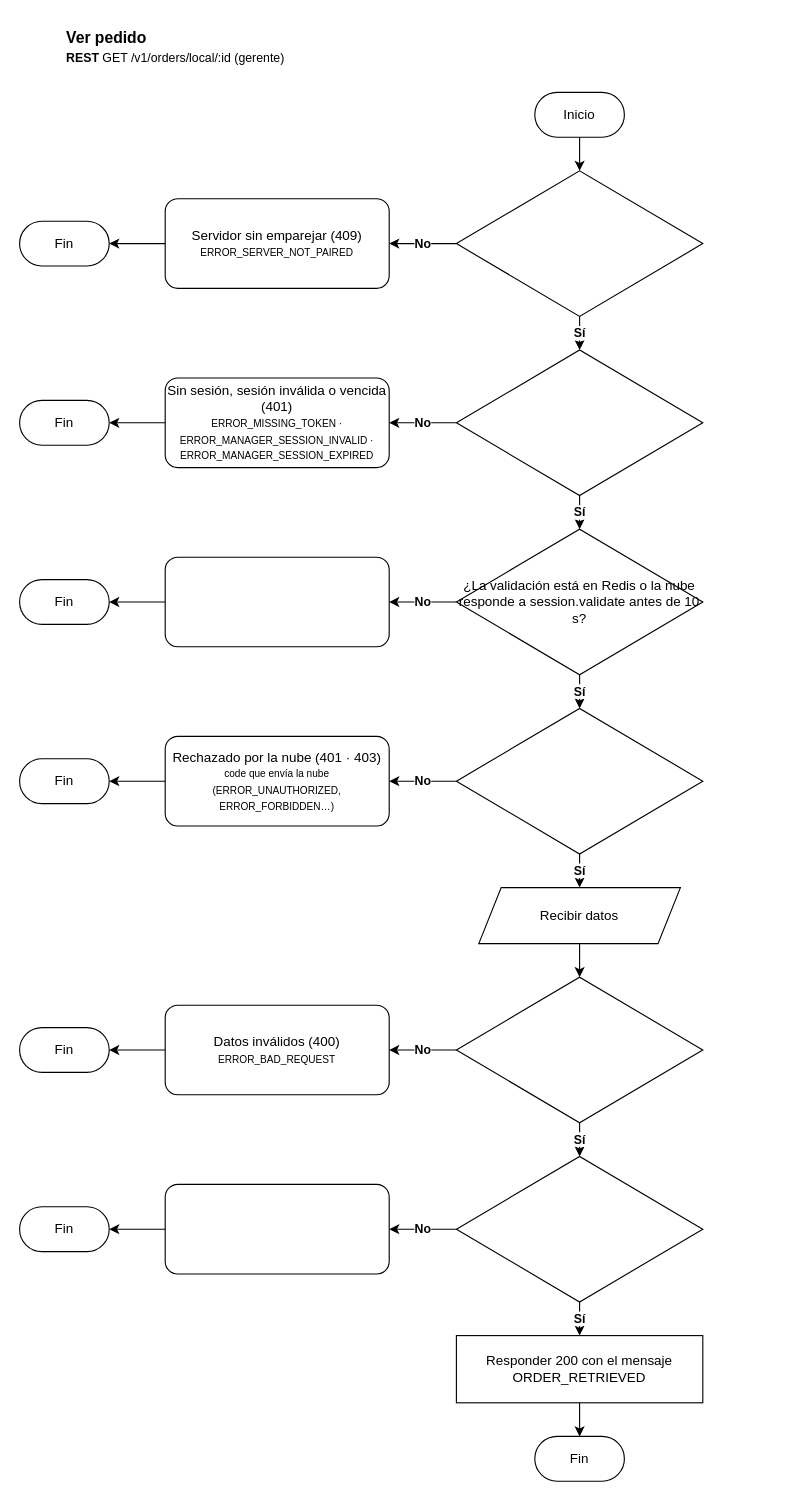
This 801x1501 diagram has some shape labels left out. The shapes that lost their labels are listed below. From the top down, each one's centre as x and y in pixels, then its label:
the point at 579,243: ¿El servidor ya se emparejó alguna vez (pairing_status distinto de unpaired)?
the point at 579,422: ¿Trae una sesión de gerente válida (Bearer mss_..., sin 30 min de inactividad)?
the point at 276,601: La nube no responde (503) ERROR_CLOUD_UNAVAILABLE · ERROR_SERVER_UNLINKED
the point at 579,780: ¿La nube acepta la sesión del gerente con este servidor?
the point at 579,1049: ¿Los datos son válidos?
the point at 276,1228: No se encontró el pedido (404) ERROR_ORDER_NOT_FOUND
the point at 579,1228: ¿Existe el pedido?
